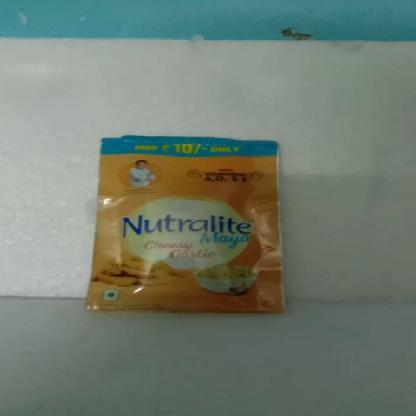Nutralite CHEESY GARLIC MAYO 30g: (99, 138, 278, 312)
